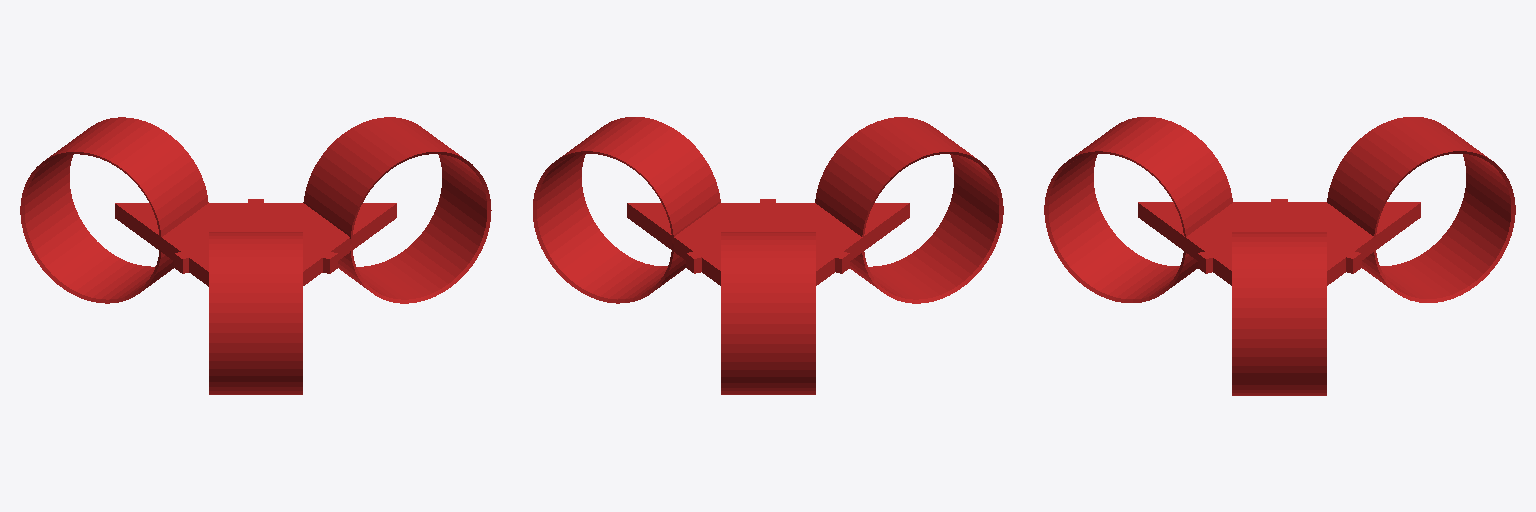
robot.urdf — galago_simple:
<?xml version='1.0'?>
<robot name="galago_simple">
	
	<link name='body'>
		<inertial>
			<origin xyz="0 0 0.5" rpy="0 0 0"/>
			<mass value="10.0"/>
			<inertia ixx="0.1" ixy="0.0" ixz="0.0" iyy="0.1" iyz="0.0" izz="0.1" />
		</inertial>
		<collision name='body_collision'>
			<origin xyz="0 0 0.5" rpy="0 0 0"/>
			<geometry>
				<mesh filename="package://galago_gazebo_models/meshes/galago_simple/galago_simple.dae"/>
			</geometry>
		</collision>
		<visual name='body_visual'>
			<origin xyz="0 0 0.5" rpy="0 0 0"/>
			<geometry>
				<mesh filename="package://galago_gazebo_models/meshes/galago_simple/galago_simple.dae"/>
			</geometry>
			<material name="orange"/>
		</visual>
		<gazebo>
			<static>false</static>
			<gravity>true</gravity>
			<self_collide>false</self_collide>
			<kinematic>false</kinematic>
			<velocity_decay>
				
				<linear>0.0</linear>
				<angular>0.0</angular>
			</velocity_decay>
			<max_contacts>250</max_contacts>
			<surface>
				<friction>
					<ode>
						<mu>0.2</mu>
						<mu2>0.2</mu2>
						<fdir1>1.0 0 0</fdir1>
						<slip1>0</slip1>
						<slip2>0</slip2>
					</ode>
				</friction>
				<contact>
					<ode>
						<kp>111.1111</kp>
						<kd>0.0</kd>
						<max_vel>10000.0</max_vel>
						<min_depth>0.0</min_depth>
					</ode>
				</contact>
			</surface>
		</gazebo>
	</link>
	
	
	<link name="cam_a_link">
		<visual>
			<origin xyz="0 0 0" rpy="0 0 0" />
			<geometry>
				<box size="0.1 0.1 0.1"/>
			</geometry>
			<material name="orange">
				<color rgba="0.8 0.2 0.2 1.0"/>
			</material>
		</visual>
	</link>
	
	<joint name="cam_a_joint" type="fixed">
		<origin rpy="0 0 3.1416" xyz="-0.5 0 0.5"/>
		<parent link="body"/>
		<child link="cam_a_link"/>
		<!--limit effort="30" velocity="1.0" lower="-2.2" upper="0.7" /-->
	</joint>
	
	<gazebo reference="cam_a_link">
		<sensor type="camera" name="camera_camera_sensor">
			<update_rate>30.0</update_rate>
			<camera>
				<pose>0 0 0 0 0 0</pose>
				<horizontal_fov>1.047</horizontal_fov>
				<image>
					<format>R8G8B8</format>
					<width>1024</width>
					<height>1024</height>
				</image>
				<clip>
					<near>0.01</near>
					<far>100</far>
				</clip>
			</camera>
			
			<plugin name="camera_camera_controller" filename="libgazebo_ros_camera.so">
				<alwaysOn>true</alwaysOn>
				<updateRate>30.0</updateRate>
				<cameraName>body_sensor/cam_a</cameraName>
				<imageTopicName>image_raw</imageTopicName>
				<cameraInfoTopicName>camera_info</cameraInfoTopicName>
				<frameName>cam_a</frameName>
				<robotNamespace>galago_simple</robotNamespace>
				<hackBaseline>0.07</hackBaseline>
				<distortionK1>0.0</distortionK1>
				<distortionK2>0.0</distortionK2>
				<distortionK3>0.0</distortionK3>
				<distortionT1>0.0</distortionT1>
				<distortionT2>0.0</distortionT2>
			</plugin>
		</sensor>
	</gazebo>
	
	<link name="cam_b_link">
		<visual>
			<origin xyz="0 0 0" rpy="0 0 0" />
			<geometry>
				<box size="0.1 0.1 0.1"/>
			</geometry>
			<material name="orange">
				<color rgba="0.8 0.2 0.2 1.0"/>
			</material>
		</visual>
	</link>
	
	<joint name="cam_b_joint" type="fixed">
		<origin rpy="0 0 -1.0472" xyz="0.25 -0.433 0.5"/>
		<parent link="body"/>
		<child link="cam_b_link"/>
		<!--limit effort="30" velocity="1.0" lower="-2.2" upper="0.7" /-->
	</joint>
	
	<gazebo reference="cam_b_link">
		<sensor type="camera" name="camera_camera_sensor">
			<update_rate>30.0</update_rate>
			<camera>
				<pose>0 0 0 0 0 0</pose>
				<horizontal_fov>1.047</horizontal_fov>
				<image>
					<format>R8G8B8</format>
					<width>1024</width>
					<height>1024</height>
				</image>
				<clip>
					<near>0.01</near>
					<far>100</far>
				</clip>
			</camera>
			
			<plugin name="camera_camera_controller" filename="libgazebo_ros_camera.so">
				<alwaysOn>true</alwaysOn>
				<updateRate>30.0</updateRate>
				<cameraName>body_sensor/cam_b</cameraName>
				<imageTopicName>image_raw</imageTopicName>
				<cameraInfoTopicName>camera_info</cameraInfoTopicName>
				<frameName>cam_b</frameName>
				<robotNamespace>galago_simple</robotNamespace>
				<hackBaseline>0.07</hackBaseline>
				<distortionK1>0.0</distortionK1>
				<distortionK2>0.0</distortionK2>
				<distortionK3>0.0</distortionK3>
				<distortionT1>0.0</distortionT1>
				<distortionT2>0.0</distortionT2>
			</plugin>
		</sensor>
	</gazebo>
	
	<link name="cam_c_link">
		<visual>
			<origin xyz="0 0 0" rpy="0 0 0" />
			<geometry>
				<box size="0.1 0.1 0.1"/>
			</geometry>
			<material name="orange">
				<color rgba="0.8 0.2 0.2 1.0"/>
			</material>
		</visual>
	</link>
	
	<joint name="cam_c_joint" type="fixed">
		<origin rpy="0 0 1.0472" xyz="0.25 0.433 0.5"/>
		<parent link="body"/>
		<child link="cam_c_link"/>
		<!--limit effort="30" velocity="1.0" lower="-2.2" upper="0.7" /-->
	</joint>
	
	<gazebo reference="cam_c_link">
		<sensor type="camera" name="camera_camera_sensor">
			<update_rate>30.0</update_rate>
			<camera>
				<pose>0 0 0 0 0 0</pose>
				<horizontal_fov>1.047</horizontal_fov>
				<image>
					<format>R8G8B8</format>
					<width>1024</width>
					<height>1024</height>
				</image>
				<clip>
					<near>0.01</near>
					<far>100</far>
				</clip>
			</camera>
			
			<plugin name="camera_camera_controller" filename="libgazebo_ros_camera.so">
				<alwaysOn>true</alwaysOn>
				<updateRate>30.0</updateRate>
				<cameraName>body_sensor/cam_c</cameraName>
				<imageTopicName>image_raw</imageTopicName>
				<cameraInfoTopicName>camera_info</cameraInfoTopicName>
				<frameName>cam_c</frameName>
				<robotNamespace>galago_simple</robotNamespace>
				<hackBaseline>0.07</hackBaseline>
				<distortionK1>0.0</distortionK1>
				<distortionK2>0.0</distortionK2>
				<distortionK3>0.0</distortionK3>
				<distortionT1>0.0</distortionT1>
				<distortionT2>0.0</distortionT2>
			</plugin>
		</sensor>
	</gazebo>
	
	<link name="cam_down_link">
		<visual>
			<origin xyz="0 0 0" rpy="0 0 0" />
			<geometry>
				<box size="0.1 0.1 0.1"/>
			</geometry>
			<material name="orange">
				<color rgba="0.8 0.2 0.2 1.0"/>
			</material>
		</visual>
	</link>
	
	<joint name="cam_down_joint" type="fixed">
		<origin rpy="0 1.57 0" xyz="0.0 0.0 0.5"/>
		<parent link="body"/>
		<child link="cam_down_link"/>
		<!--limit effort="30" velocity="1.0" lower="-2.2" upper="0.7" /-->
	</joint>
	
	<gazebo reference="cam_down_link">
		<sensor type="camera" name="camera_camera_sensor">
			<update_rate>30.0</update_rate>
			<camera>
				<pose>0 0 0 0 0 0</pose>
				<horizontal_fov>1.047</horizontal_fov>
				<image>
					<format>R8G8B8</format>
					<width>1024</width>
					<height>1024</height>
				</image>
				<clip>
					<near>0.01</near>
					<far>100</far>
				</clip>
			</camera>
			
			<plugin name="camera_camera_controller" filename="libgazebo_ros_camera.so">
				<alwaysOn>true</alwaysOn>
				<updateRate>30.0</updateRate>
				<cameraName>body_sensor/cam_down</cameraName>
				<imageTopicName>image_raw</imageTopicName>
				<cameraInfoTopicName>camera_info</cameraInfoTopicName>
				<robotNamespace>galago_simple</robotNamespace>
				<frameName>cam_down</frameName>
				<hackBaseline>0.07</hackBaseline>
				<distortionK1>0.0</distortionK1>
				<distortionK2>0.0</distortionK2>
				<distortionK3>0.0</distortionK3>
				<distortionT1>0.0</distortionT1>
				<distortionT2>0.0</distortionT2>
			</plugin>
		</sensor>
	</gazebo>
	
	<link name="cam_up_link">
		<visual>
			<origin xyz="0 0 0" rpy="0 0 0" />
			<geometry>
				<box size="0.1 0.1 0.1"/>
			</geometry>
			<material name="orange">
				<color rgba="0.8 0.2 0.2 1.0"/>
			</material>
		</visual>
	</link>
	
	<joint name="cam_up_joint" type="fixed">
		<origin rpy="0 -1.57 0" xyz="0.0 0.0 0.5"/>
		<parent link="body"/>
		<child link="cam_up_link"/>
		<!--limit effort="30" velocity="1.0" lower="-2.2" upper="0.7" /-->
	</joint>
	
	<gazebo reference="cam_up_link">
		<sensor type="camera" name="camera_camera_sensor">
			<update_rate>30.0</update_rate>
			<camera>
				<pose>0 0 0 0 0 0</pose>
				<horizontal_fov>1.047</horizontal_fov>
				<image>
					<format>R8G8B8</format>
					<width>1024</width>
					<height>1024</height>
				</image>
				<clip>
					<near>0.01</near>
					<far>100</far>
				</clip>
			</camera>
			
			<plugin name="camera_camera_controller" filename="libgazebo_ros_camera.so">
				<alwaysOn>true</alwaysOn>
				<updateRate>30.0</updateRate>
				<cameraName>body_sensor/cam_up</cameraName>
				<imageTopicName>image_raw</imageTopicName>
				<cameraInfoTopicName>camera_info</cameraInfoTopicName>
				<robotNamespace>galago_simple</robotNamespace>
				<frameName>cam_up</frameName>
				<hackBaseline>0.07</hackBaseline>
				<distortionK1>0.0</distortionK1>
				<distortionK2>0.0</distortionK2>
				<distortionK3>0.0</distortionK3>
				<distortionT1>0.0</distortionT1>
				<distortionT2>0.0</distortionT2>
			</plugin>
		</sensor>
	</gazebo>
	
	
	<gazebo>
		<plugin name="imu_plugin" filename="libgazebo_ros_imu.so">
			<alwaysOn>true</alwaysOn>
			<bodyName>body</bodyName>
			<topicName>imu_data</topicName>
			<serviceName>imu_service</serviceName>
			<gaussianNoise>0.0</gaussianNoise>
			<updateRate>30.0</updateRate>
			<xyzOffset>0 0 0</xyzOffset>
			<rpyOffset>0 0 0</rpyOffset>
			<frameName>world</frameName>
		</plugin>
	</gazebo>
	
	
	<gazebo>
		<plugin name="gazebo_ros_force" filename="libgazebo_ros_force.so">
			<alwaysOn>true</alwaysOn>
			<update>100</update>
			<updateRate>30.0</updateRate>
			<bodyName>body</bodyName>
			<topicName>force</topicName>
		</plugin>
	</gazebo>
	
	<!-- stereo cam -->
	<!--gazebo reference="left_camera_frame"> <sensor type="multicamera" name="stereo_camera"> <update_rate>30.0</update_rate> <camera name="left"> <horizontal_fov>1.3962634</horizontal_fov> <image> <width>800</width> <height>800</height> <format>R8G8B8</format> </image> <clip> <near>0.02</near> <far>300</far> </clip> <noise> <type>gaussian</type> <mean>0.0</mean> <stddev>0.007</stddev> </noise> </camera> <camera name="right"> <pose>0 -0.07 0 0 0 0</pose> <horizontal_fov>1.3962634</horizontal_fov> <image> <width>800</width> <height>800</height> <format>R8G8B8</format> </image> <clip> <near>0.02</near> <far>300</far> </clip> <noise> <type>gaussian</type> <mean>0.0</mean> <stddev>0.007</stddev> </noise> </camera> <plugin name="stereo_camera_controller" filename="libgazebo_ros_multicamera.so"> <alwaysOn>true</alwaysOn> <updateRate>0.0</updateRate> <cameraName>multisense_sl/camera</cameraName> <imageTopicName>image_raw</imageTopicName> <cameraInfoTopicName>camera_info</cameraInfoTopicName> <frameName>left_camera_optical_frame</frameName>
		<<rightFrameName>right_camera_optical_frame</rightFrameName>> <hackBaseline>0.07</hackBaseline> <distortionK1>0.0</distortionK1> <distortionK2>0.0</distortionK2> <distortionK3>0.0</distortionK3> <distortionT1>0.0</distortionT1> <distortionT2>0.0</distortionT2> </plugin> </sensor> </gazebo-->
	
	<!-- depth cam - kinect -->
	<!--gazebo> <plugin name="${link_name}_controller" filename="libgazebo_ros_openni_kinect.so"> <baseline>0.2</baseline> <alwaysOn>true</alwaysOn> <updateRate>1.0</updateRate> <cameraName>${camera_name}_ir</cameraName> <imageTopicName>/${camera_name}/depth/image_raw</imageTopicName> <cameraInfoTopicName>/${camera_name}/depth/camera_info</cameraInfoTopicName> <depthImageTopicName>/${camera_name}/depth/image_raw</depthImageTopicName> <depthImageInfoTopicName>/${camera_name}/depth/camera_info</depthImageInfoTopicName> <pointCloudTopicName>/${camera_name}/depth/points</pointCloudTopicName> <frameName>${frame_name}</frameName> <pointCloudCutoff>0.5</pointCloudCutoff> <distortionK1>0.00000001</distortionK1> <distortionK2>0.00000001</distortionK2> <distortionK3>0.00000001</distortionK3> <distortionT1>0.00000001</distortionT1> <distortionT2>0.00000001</distortionT2> <CxPrime>0</CxPrime> <Cx>0</Cx> <Cy>0</Cy> <focalLength>0</focalLength> <hackBaseline>0</hackBaseline> </plugin> </gazebo-->
	
	<!-- laser - hokuyo -->
	<!--gazebo reference="hokuyo_link"> <sensor type="gpu_ray" name="head_hokuyo_sensor"> <pose>0 0 0 0 0 0</pose> <visualize>false</visualize> <update_rate>40</update_rate> <ray> <scan> <horizontal> <samples>720</samples> <resolution>1</resolution> <min_angle>-1.570796</min_angle> <max_angle>1.570796</max_angle> </horizontal> </scan> <range> <min>0.10</min> <max>30.0</max> <resolution>0.01</resolution> </range> <noise> <type>gaussian</type> <... Noise parameters based on published spec for Hokuyo laser achieving "+-30mm" accuracy at range < 10m. A mean of 0.0m and stddev of 0.01m will put 99.7% of samples within 0.03m of the true reading. ...> <mean>0.0</mean> <stddev>0.01</stddev> </noise> </ray> <plugin name="gazebo_ros_head_hokuyo_controller" filename="libgazebo_ros_gpu_laser.so"> <topicName>/rrbot/laser/scan</topicName> <frameName>hokuyo_link</frameName> </plugin> </sensor> </gazebo-->
	
	<!--ground truth-->
	<!--bumper for contacts-->
	
	<!--planar move?-->
	<!--Force-->
	<!--joint pose trajectory-->
	
	<!--projector/video-->
	
</robot>

--- What the picture shows (computed from the rendered views, not written in the file) ---
3 views of the same robot in one strip: view 1: azimuth 30°, elevation 25°; view 2: azimuth 150°, elevation 25°; view 3: azimuth 270°, elevation 25° (orthographic).
Robot: galago_simple — 6 links, 5 joints (5 fixed); root link body; default pose: every joint at zero.
Visible links, largest first — view 1: body; view 2: body; view 3: body.
Boxes of the visible links, box(x1,y1,x2,y2) form: body: box(20, 117, 491, 394); body: box(533, 117, 1003, 394); body: box(1044, 117, 1515, 395).
Bounding box of the posed robot: 2.5 × 2.88 × 1 m (x, y, z).
1 mesh visuals loaded from 1 distinct referenced files (1 Collada DAE).
